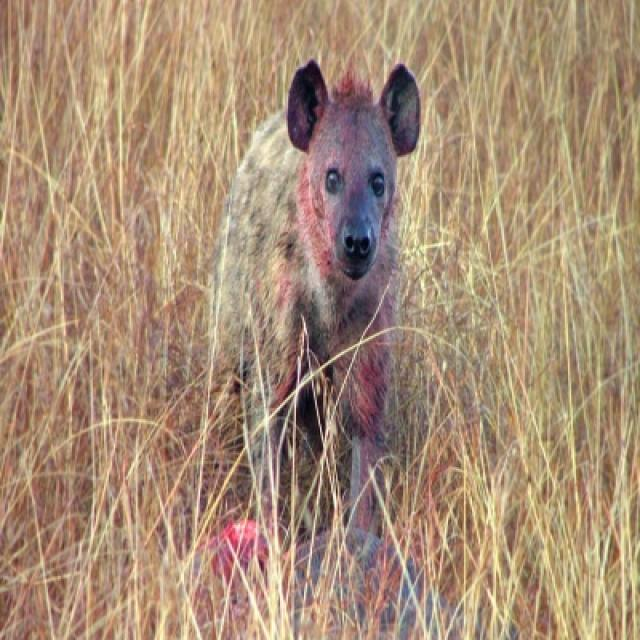hyena: (210, 61, 422, 565)
